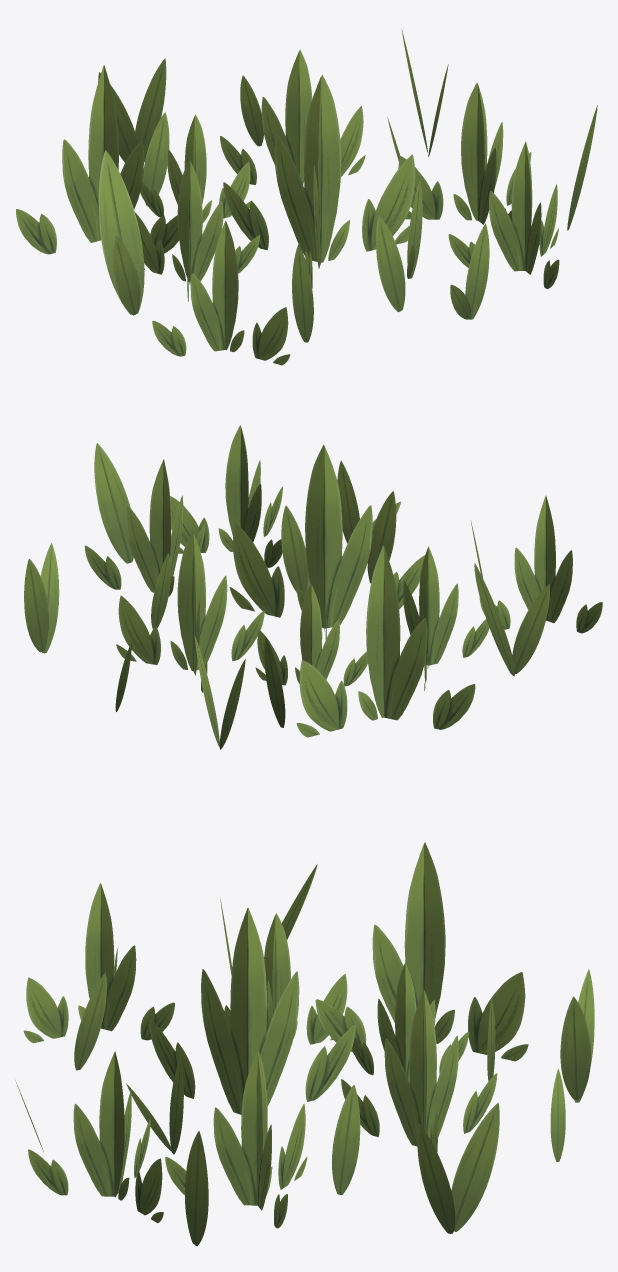
Rendered from SM_Grass.fbx.
3 views of the same model, one above another, from view 1: azimuth 30°, elevation 25°; view 2: azimuth 150°, elevation 25°; view 3: azimuth 270°, elevation 25° (orthographic). The views are drawn at different scales.
Parts seen in each view (by area): view 1: polySurface16; view 2: polySurface16; view 3: polySurface16.
Part boxes in pixels (x1,y1,x2,y2): polySurface16: (16,29,597,365); polySurface16: (24,425,602,749); polySurface16: (15,842,594,1246).
Bounding box in the file's own units: 411 × 158 × 372.
